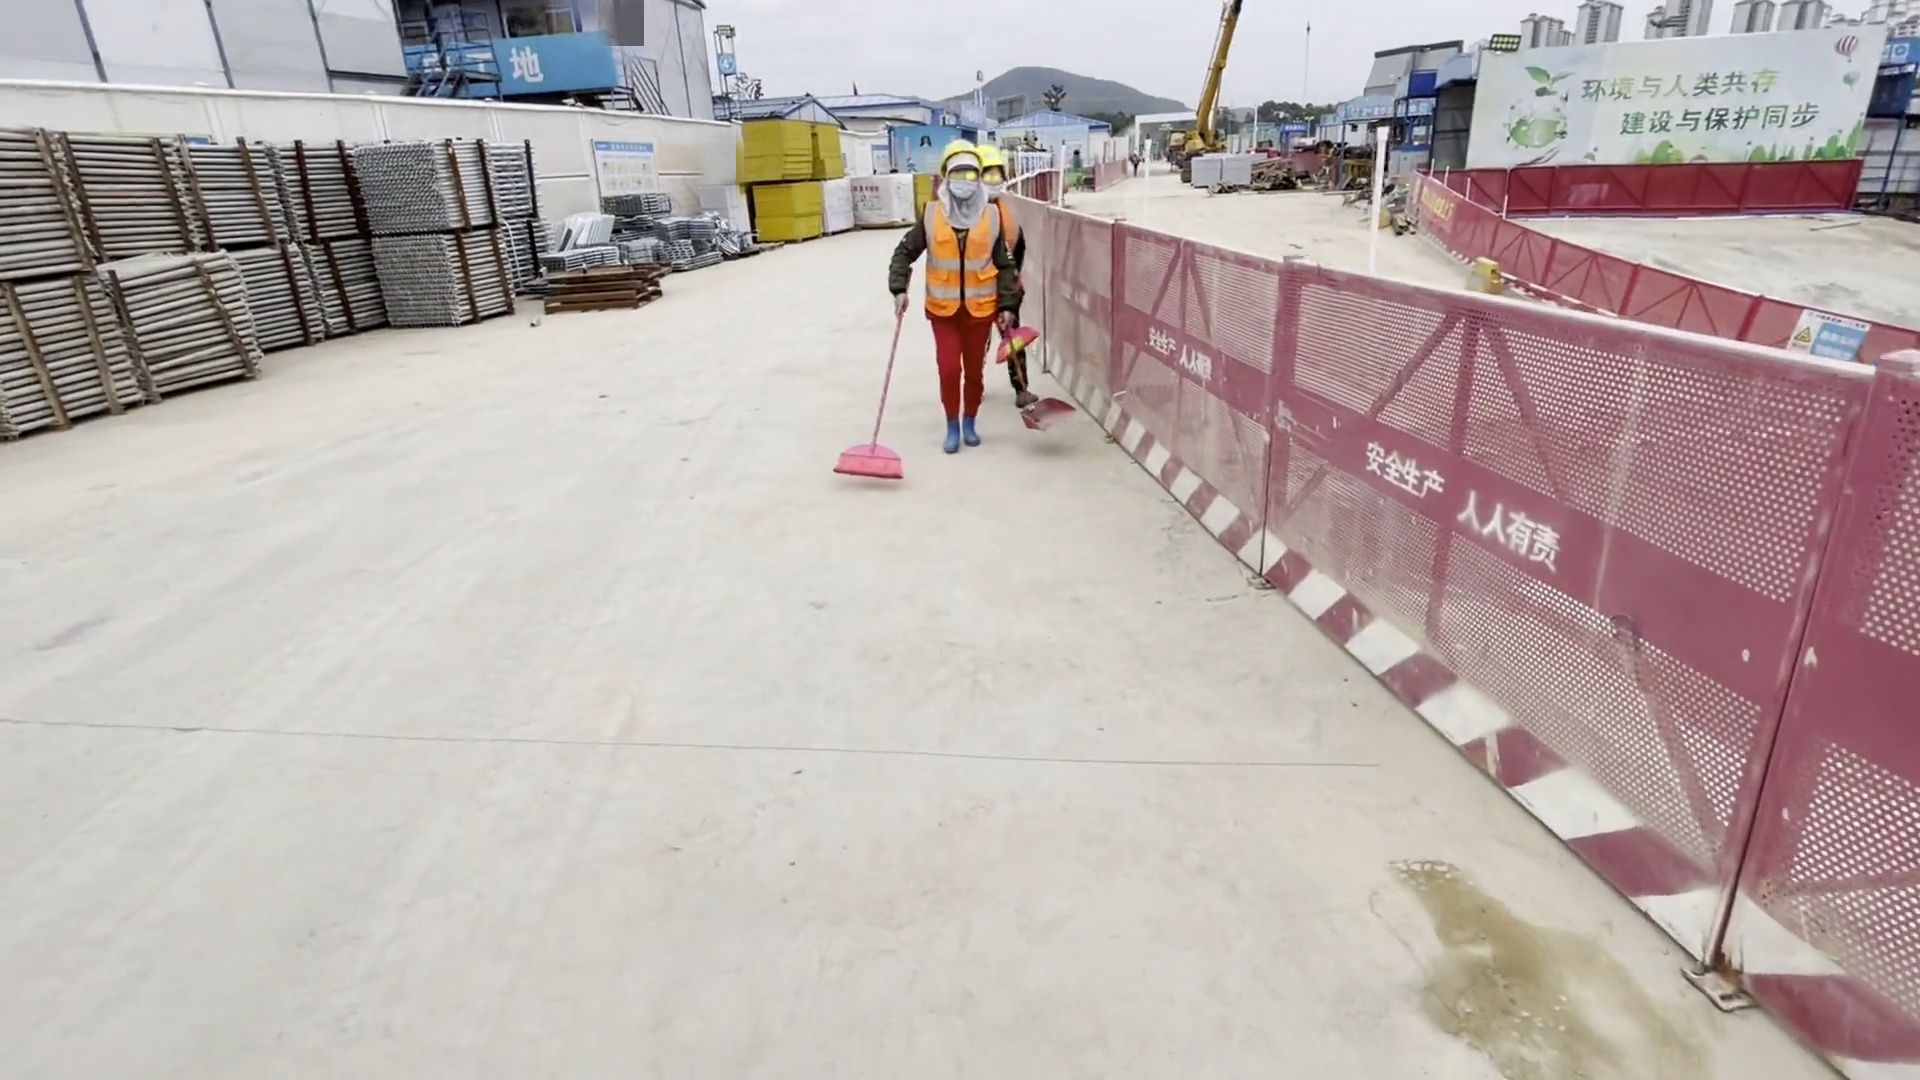board: (734, 120, 828, 255)
fence: (1043, 201, 1893, 1040)
helmet: (928, 133, 982, 192)
person: (899, 120, 1041, 444)
scaffold: (2, 118, 552, 435), (545, 188, 749, 283)
vest: (919, 199, 1006, 335)
